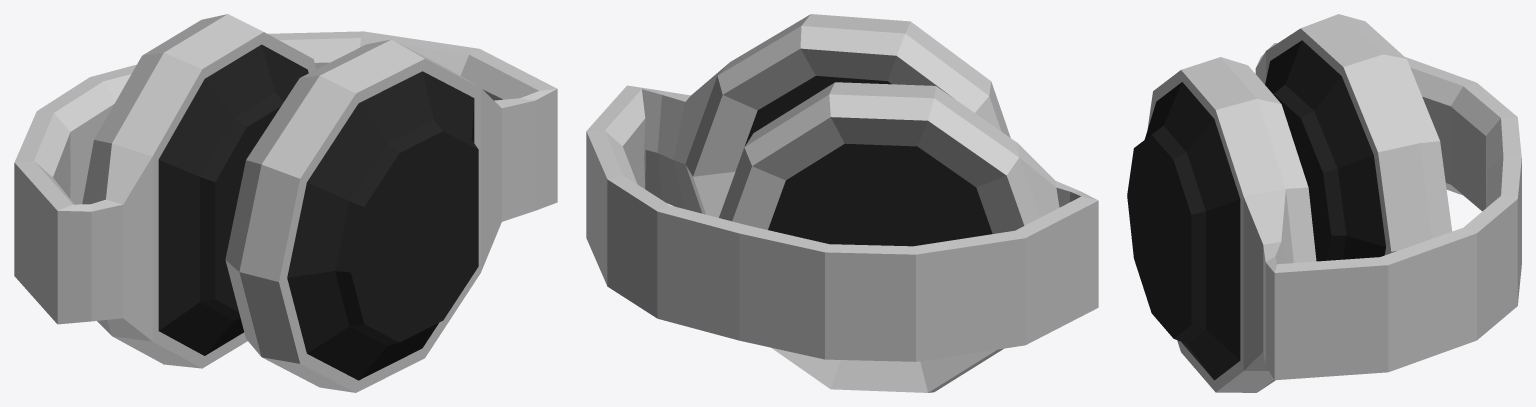
Rendered from HeadphonesV2White.fbx.
3 renders of one model, left to right at view 1: azimuth 30°, elevation 25°; view 2: azimuth 150°, elevation 25°; view 3: azimuth 270°, elevation 25°, orthographic. The views are drawn at different scales.
Parts seen in each view (by area): view 1: HeadphonesV2White; view 2: HeadphonesV2White; view 3: HeadphonesV2White.
Part boxes in pixels (x1,y1,x2,y2): HeadphonesV2White: (14, 14, 557, 392); HeadphonesV2White: (586, 14, 1098, 392); HeadphonesV2White: (1127, 14, 1521, 392).
Size of the model in its own units: 24.13 by 14.38 by 17.49.
